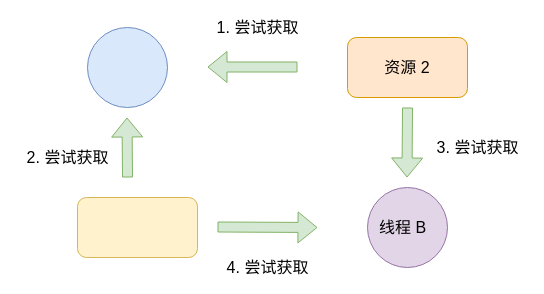
Some shapes in this 544 by 294 pixel diagram are drawn without their labels. The centre of each missing label's shape, as x and y in pixels:
线程 A: the point at 127,67
资源 1: the point at 137,227
